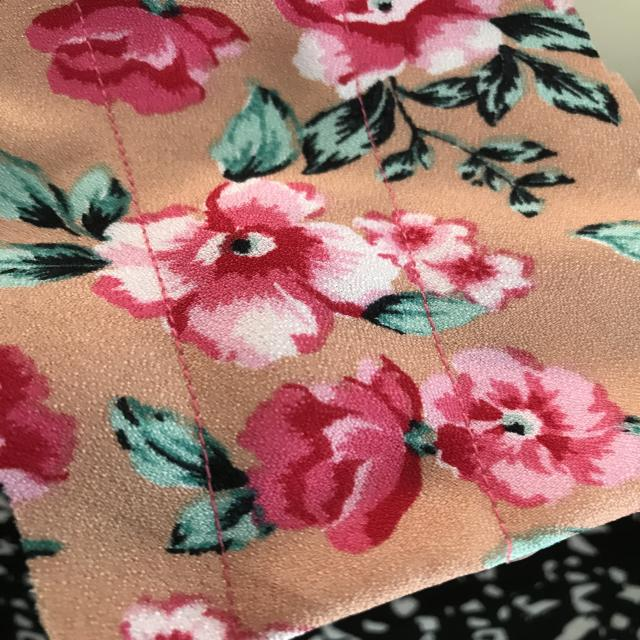good: (89, 110, 142, 168)
